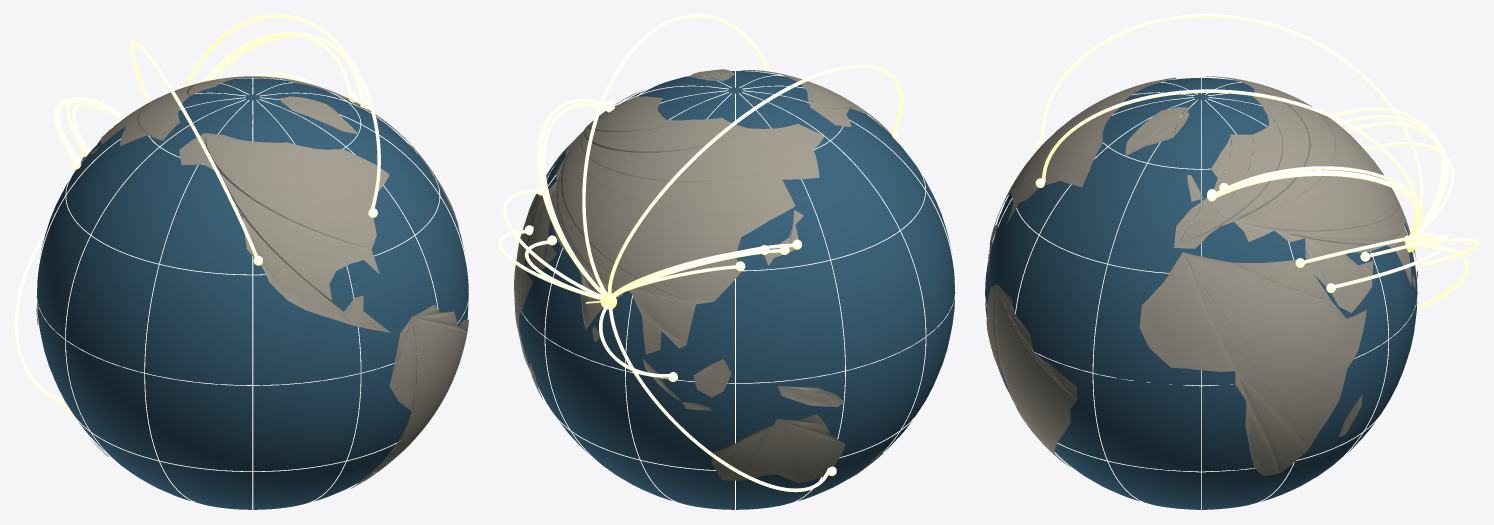
Rendered from globe_routes_from_india.glb.
The picture shows the model from 3 angles, left to right: view 1: azimuth 30°, elevation 25°; view 2: azimuth 150°, elevation 25°; view 3: azimuth 270°, elevation 25°; orthographic projection.
Visible parts, largest first — view 1: GlobeBody, Land_NorthAmerica, Land_SouthAmerica, Land_Eurasia, Route_4, Route_5, Land_Greenland, Route_10, Route_11, Route_0, Meridian6, Meridian8 (+4 smaller); view 2: GlobeBody, Land_Eurasia, Land_Australia, Route_5, Route_4, Land_NorthAmerica, Land_Africa, Route_10, Route_11, Land_Borneo, Land_NewGuinea, Route_7 (+4 smaller); view 3: GlobeBody, Land_Africa, Land_Eurasia, Land_SouthAmerica, Land_NorthAmerica, Route_5, Route_4, Land_Greenland, Route_1, Route_11, Route_12, Route_3 (+4 smaller).
Part boxes in pixels (x1=…): GlobeBody: x1=36, y1=78, x2=468, y2=509; Land_NorthAmerica: x1=179, y1=133, x2=390, y2=332; Land_SouthAmerica: x1=351, y1=304, x2=468, y2=488; Land_Eurasia: x1=98, y1=76, x2=413, y2=147; Route_4: x1=184, y1=14, x2=380, y2=208; Route_5: x1=130, y1=41, x2=257, y2=256; Land_Greenland: x1=280, y1=96, x2=357, y2=133; Route_10: x1=14, y1=229, x2=66, y2=404; Route_11: x1=203, y1=32, x2=351, y2=95; Route_0: x1=208, y1=33, x2=363, y2=102; Meridian6: x1=65, y1=99, x2=246, y2=478; Meridian8: x1=252, y1=100, x2=253, y2=509; GlobeBody: x1=519, y1=71, x2=955, y2=509; Land_Eurasia: x1=526, y1=96, x2=824, y2=354; Land_Australia: x1=711, y1=414, x2=845, y2=482; Route_5: x1=607, y1=64, x2=903, y2=296; Route_4: x1=582, y1=14, x2=770, y2=294; Land_NorthAmerica: x1=740, y1=70, x2=892, y2=136; Land_Africa: x1=514, y1=144, x2=570, y2=372; Route_10: x1=608, y1=306, x2=830, y2=492; Route_11: x1=542, y1=103, x2=610, y2=295; Land_Borneo: x1=693, y1=359, x2=731, y2=397; Land_NewGuinea: x1=778, y1=386, x2=844, y2=406; Route_7: x1=502, y1=190, x2=602, y2=296; GlobeBody: x1=985, y1=78, x2=1417, y2=509; Land_Africa: x1=1139, y1=252, x2=1366, y2=476; Land_Eurasia: x1=1174, y1=76, x2=1416, y2=312; Land_SouthAmerica: x1=986, y1=284, x2=1077, y2=467; Land_NorthAmerica: x1=988, y1=77, x2=1176, y2=278; Route_5: x1=1040, y1=14, x2=1423, y2=234; Route_4: x1=1042, y1=89, x2=1418, y2=236; Land_Greenland: x1=1125, y1=107, x2=1189, y2=155; Route_1: x1=1216, y1=172, x2=1421, y2=241; Route_11: x1=1228, y1=166, x2=1422, y2=221; Route_12: x1=1345, y1=122, x2=1448, y2=233; Route_3: x1=1329, y1=107, x2=1444, y2=226.
Size of the model in its own units: 10.04 by 11.19 by 11.44.
